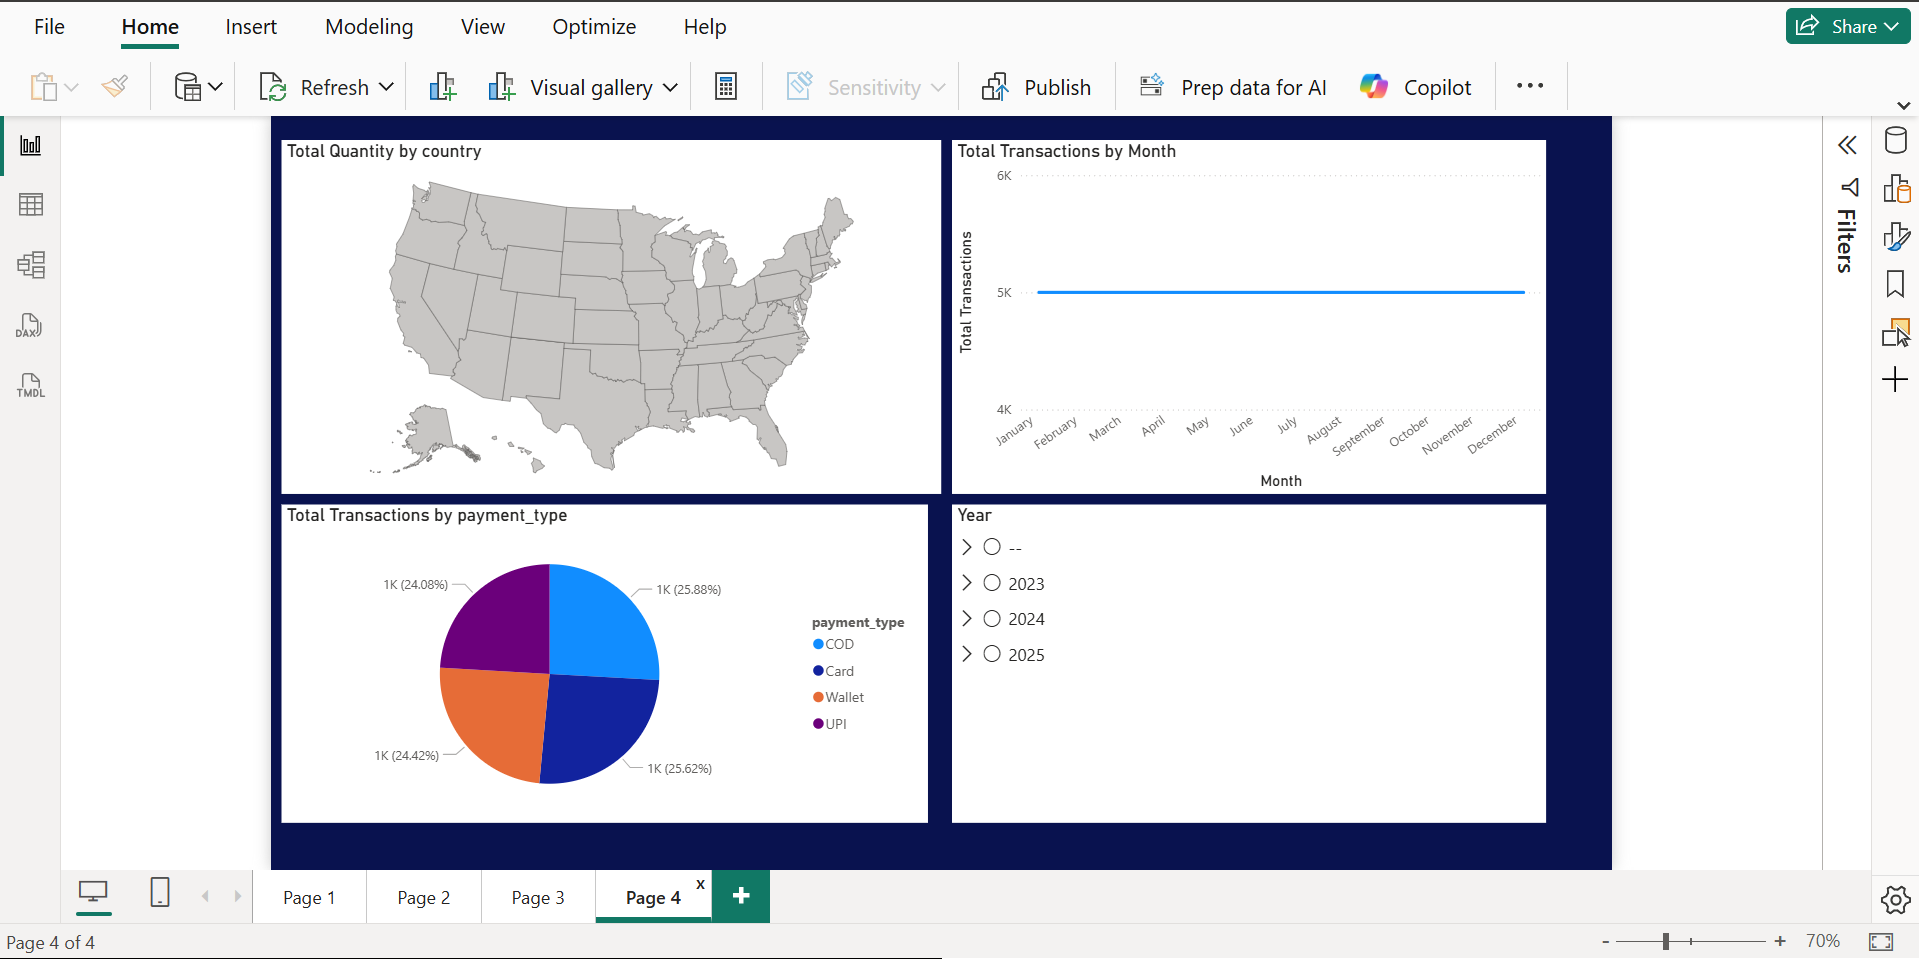

What the dashboard file says about the page in this screenshot:
{"tool":"powerbi","page":{"name":"Page 4","canvas":[1280,720],"ordinal":3},"visuals":[{"type":"shapeMap","fields":{"Category":["warehouse fact_sales.country"],"Value":["Measures (2).Total Quantity"]},"box":[10,22.9,630.3,338],"z":0},{"type":"pieChart","fields":{"Category":["warehouse fact_sales.payment_type"],"Y":["Measures (2).Total Transactions"]},"box":[10,371,617.4,303.7],"z":1000},{"type":"lineChart","fields":{"Category":["warehouse dim_date.order_date.Variation.Date Hierarchy.Month"],"Y":["Measures (2).Total Transactions"]},"box":[650.3,22.9,567.2,338],"z":2000},{"type":"listSlicer","fields":{"Values":["DateTable.Date.Variation.Date Hierarchy.Year","DateTable.Date.Variation.Date Hierarchy.Quarter","DateTable.Date.Variation.Date Hierarchy.Month","DateTable.Date.Variation.Date Hierarchy.Day"]},"box":[650,371,567,304],"z":2001}]}

Visuals, with their boxes on the page's 1280x720 design canvas (x1, y1, x2, y2). These are canvas units, not pixel positions in the 1919x959 screenshot, which may show the page scaled, cropped or inside an application window:
shapeMap - warehouse fact_sales.country x Measures (2).Total Quantity: 10,23,640,361
pieChart - warehouse fact_sales.payment_type x Measures (2).Total Transactions: 10,371,627,675
lineChart - warehouse dim_date.order_date.Variation.Date Hierarchy.Month x Measures (2).Total Transactions: 650,23,1218,361
listSlicer - DateTable.Date.Variation.Date Hierarchy.Year x DateTable.Date.Variation.Date Hierarchy.Quarter: 650,371,1217,675
